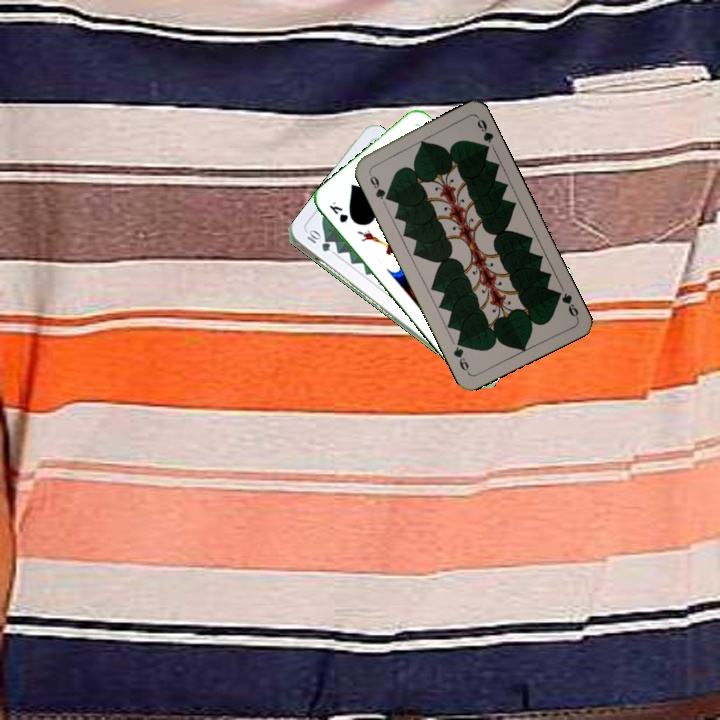G10: (303, 228, 333, 254)
G9: (551, 286, 581, 321), (364, 168, 392, 203)
GK: (325, 198, 351, 225)
